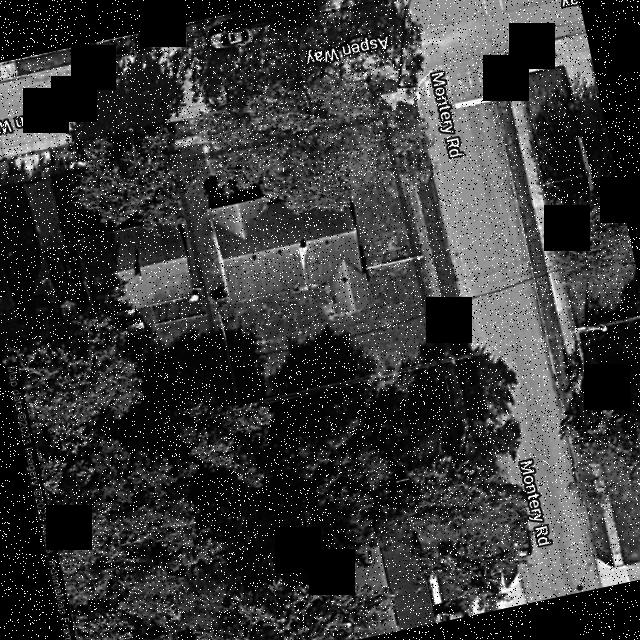Driveway: (205, 155, 228, 208)
Extra Driveway: (186, 112, 218, 152)
Extra Lawn: (403, 189, 471, 480), (417, 176, 471, 353), (452, 350, 495, 477), (166, 118, 197, 139), (175, 142, 201, 158)
Extra Sidewalk: (409, 187, 477, 479), (175, 133, 200, 146)
House: (209, 187, 369, 313)
